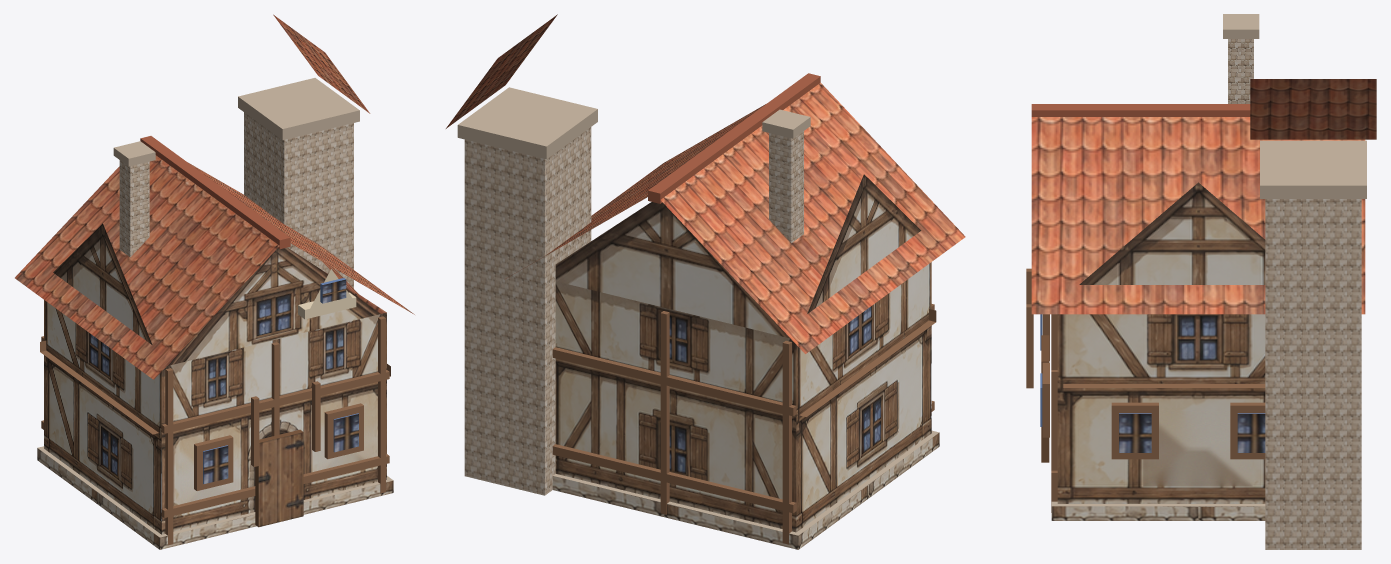
File: tower_house.glb
The picture shows the model from 3 angles, left to right: view 1: azimuth 30°, elevation 25°; view 2: azimuth 150°, elevation 25°; view 3: azimuth 270°, elevation 25°; orthographic projection. The views are drawn at different scales.
Visible parts, largest first — view 1: roof_front_slope, walls_front, walls_left, tower_walls, gable_front, stone_foundation, tower_battlement, gable_left, front_door, timber_front_posts, chimney, roof_ridge_cap (+11 smaller); view 2: walls_back, tower_walls, roof_front_slope, walls_left, gable_back, stone_foundation, tower_battlement, gable_left, timber_back_posts, chimney, roof_ridge_cap, timber_back_upper (+5 smaller); view 3: roof_back_slope, walls_right, tower_walls, gable_right, tower_roof_a, tower_battlement, stone_foundation, roof_ridge_cap, window_frames_side, window_glass_side, chimney, timber_front_posts (+5 smaller).
Part boxes in pixels (bbox=[...]): roof_front_slope: bbox=[15, 155, 279, 379]; walls_front: bbox=[161, 312, 386, 534]; walls_left: bbox=[44, 300, 161, 534]; tower_walls: bbox=[244, 112, 353, 288]; gable_front: bbox=[167, 247, 386, 365]; stone_foundation: bbox=[37, 446, 393, 549]; tower_battlement: bbox=[238, 78, 359, 140]; gable_left: bbox=[53, 223, 152, 344]; front_door: bbox=[255, 429, 303, 527]; timber_front_posts: bbox=[165, 316, 385, 545]; chimney: bbox=[119, 160, 149, 257]; roof_ridge_cap: bbox=[140, 136, 290, 249]; walls_back: bbox=[555, 281, 796, 532]; tower_walls: bbox=[464, 127, 591, 495]; roof_front_slope: bbox=[661, 82, 965, 353]; walls_left: bbox=[796, 262, 931, 531]; gable_back: bbox=[555, 202, 790, 338]; stone_foundation: bbox=[552, 430, 939, 549]; tower_battlement: bbox=[457, 87, 597, 159]; gable_left: bbox=[807, 174, 921, 313]; timber_back_posts: bbox=[660, 311, 791, 544]; chimney: bbox=[769, 131, 803, 242]; roof_ridge_cap: bbox=[648, 73, 820, 203]; timber_back_upper: bbox=[552, 347, 796, 416]; roof_back_slope: bbox=[1031, 117, 1365, 314]; walls_right: bbox=[1057, 314, 1265, 503]; tower_walls: bbox=[1265, 199, 1361, 549]; gable_right: bbox=[1079, 182, 1265, 284]; tower_roof_a: bbox=[1250, 79, 1376, 139]; tower_battlement: bbox=[1260, 140, 1366, 198]; stone_foundation: bbox=[1051, 501, 1265, 520]; roof_ridge_cap: bbox=[1031, 104, 1250, 116]; window_frames_side: bbox=[1111, 402, 1265, 459]; window_glass_side: bbox=[1119, 413, 1265, 452]; chimney: bbox=[1228, 39, 1253, 103]; timber_front_posts: bbox=[1051, 314, 1057, 512].
Size of the model in its own units: 5.75 by 6.7 by 5.15.
1 material, 1 textured.
